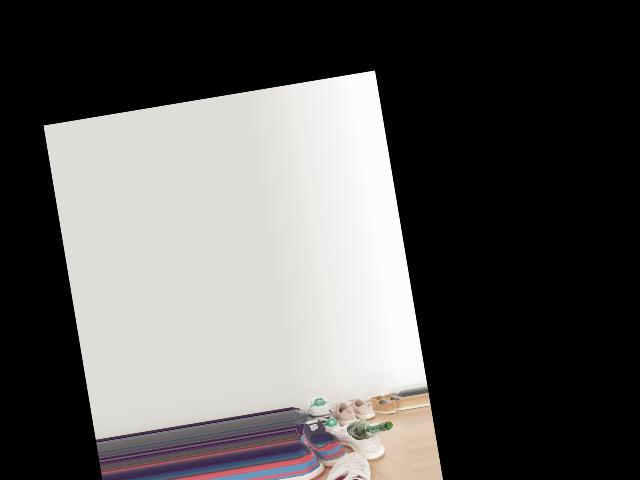beer: (346, 418, 394, 441)
